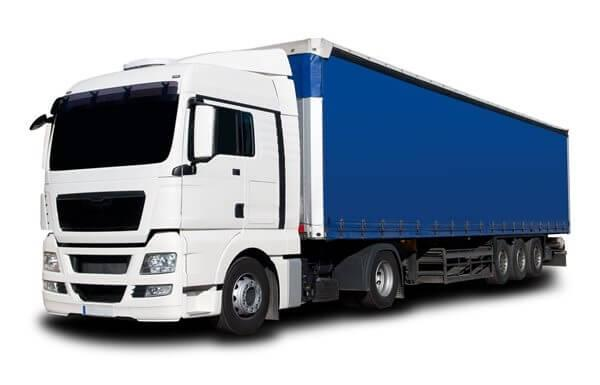truck: (29, 36, 570, 338)
